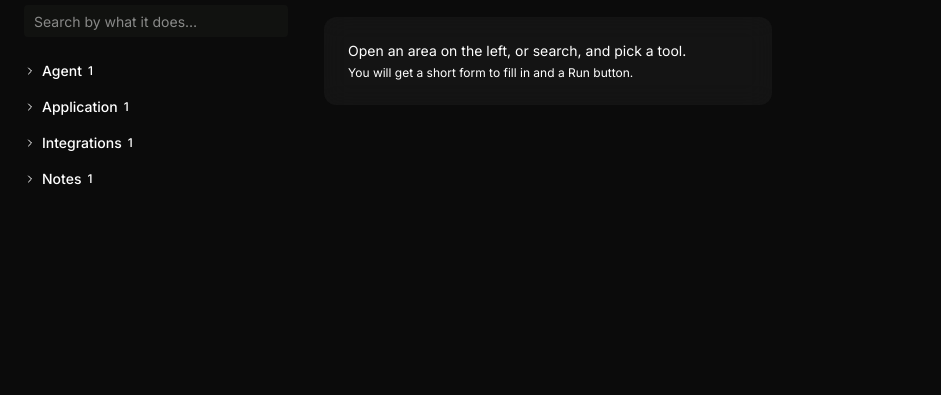
Test: ToolCatalogPanel › explains the tool in words and keeps the plumbing under technical details
Click the button "agent 1".
click(62, 70)  # box [12,53,300,89]
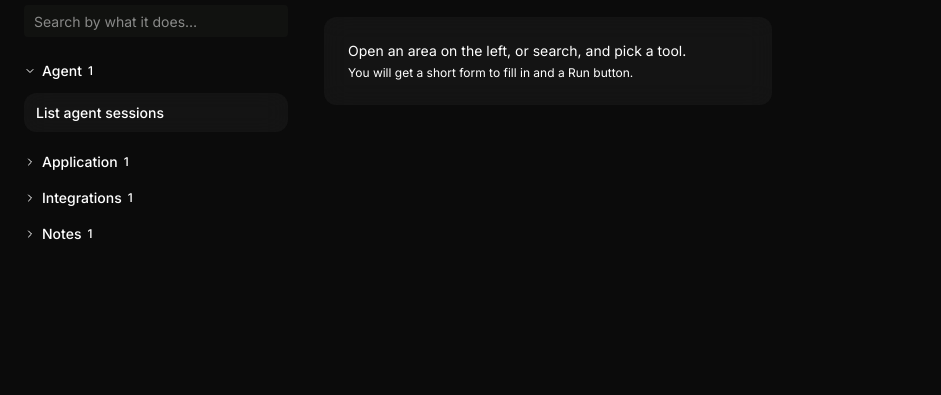
Click the button "List agent sessions".
click(156, 113)  # box [24,93,288,132]
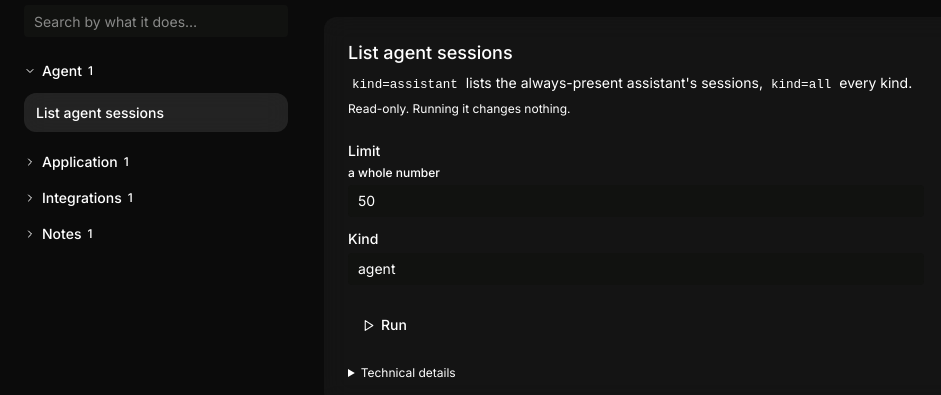
expect the heading "List agent sessions" is shown: met, box [348,42,513,63]
expect the element with test id "tool-detail" shows "lists the always-present assistant's sessions": met, box [462,74,767,91]
expect the element with test id "tool-detail" shows "Read-only. Running it changes nothing.": met, box [348,101,570,116]
